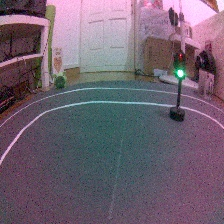green: (168, 49, 188, 124)
